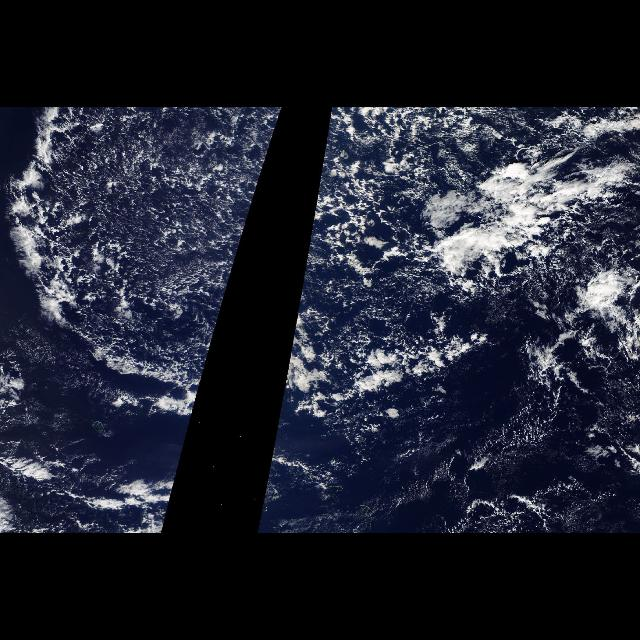Gravel: (13, 109, 283, 398), (290, 109, 432, 349)
